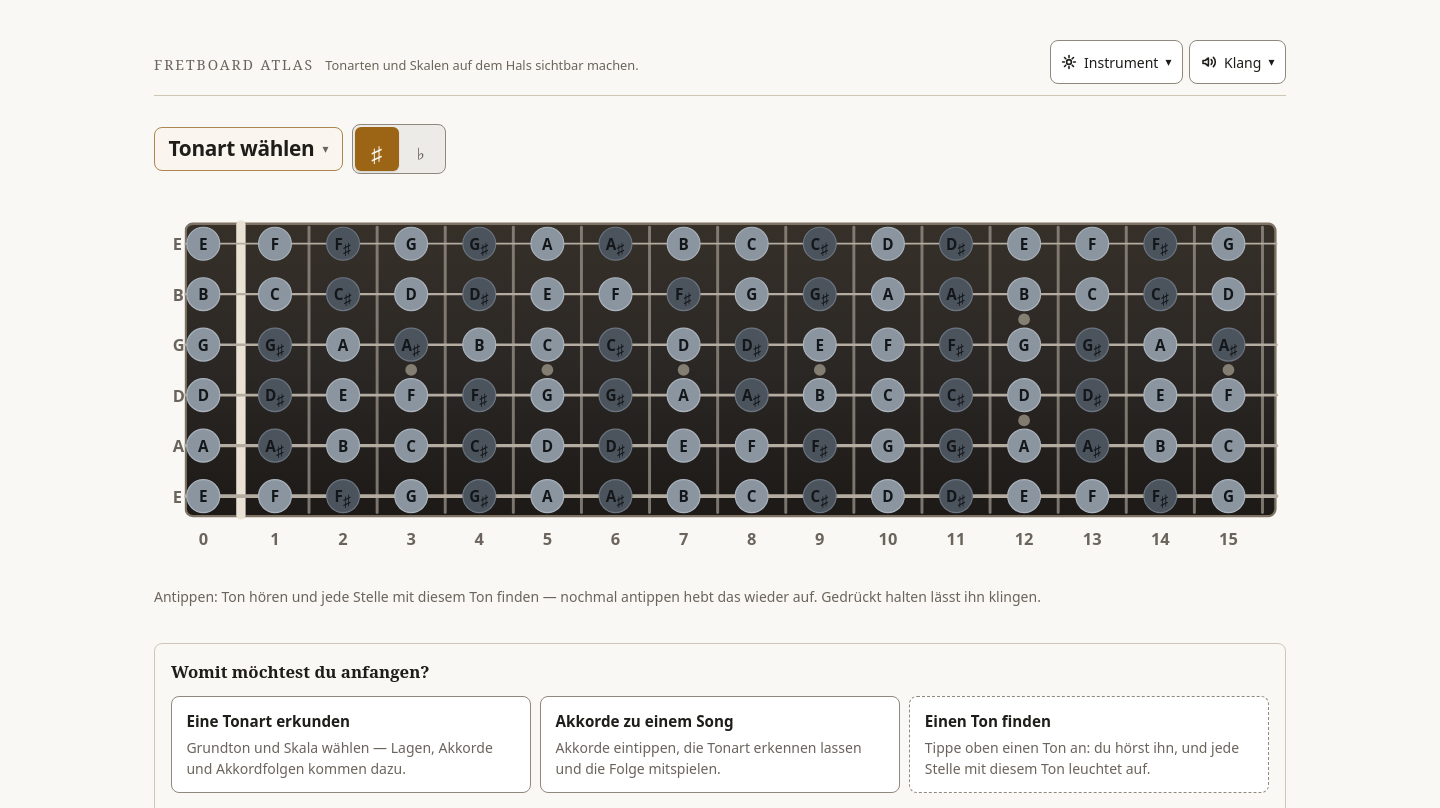
Test case: App — Alle Töne › holt mit einer gewählten Skala alles zurück, was daran hängt
This screenshot has width=1440, height=808.
Click the button with class "key-trigger" at (248, 149), box left=154, top=127, right=343, bottom=171
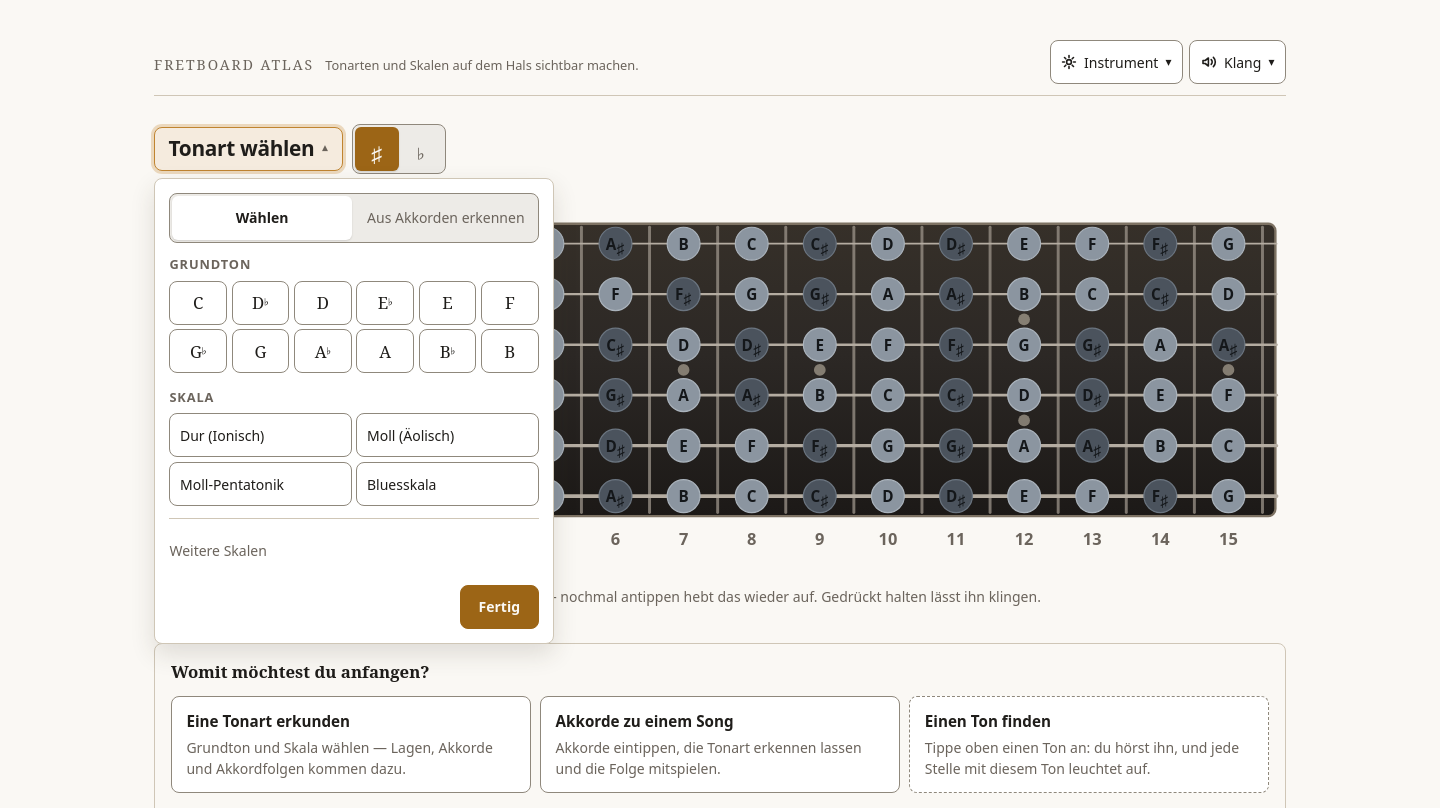
Click the button with class "key-option" showing "Dur (Ionisch)" at (260, 435), box left=169, top=413, right=352, bottom=457
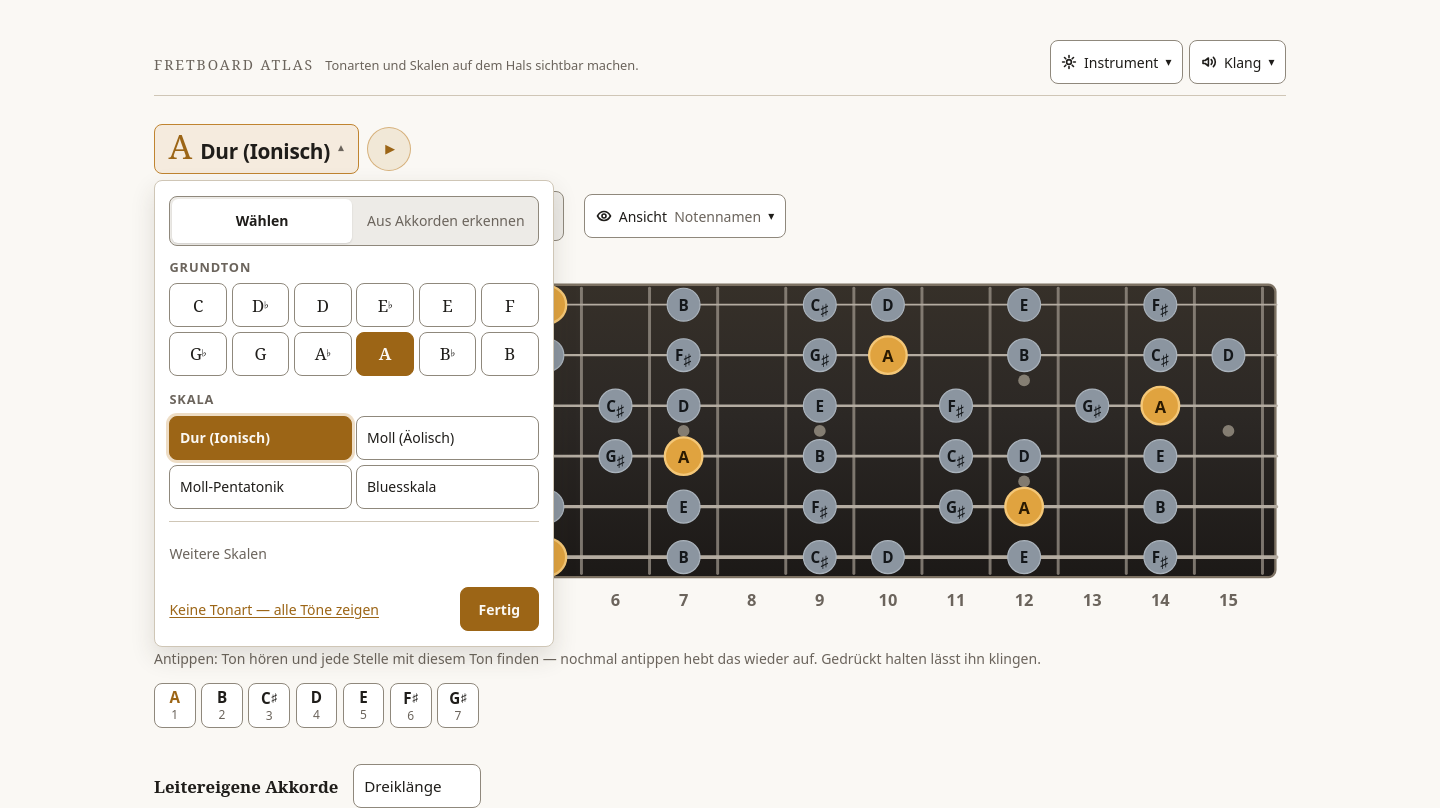
Expected: the element with class "neck-bar" is shown, left=154, top=191, right=786, bottom=241
